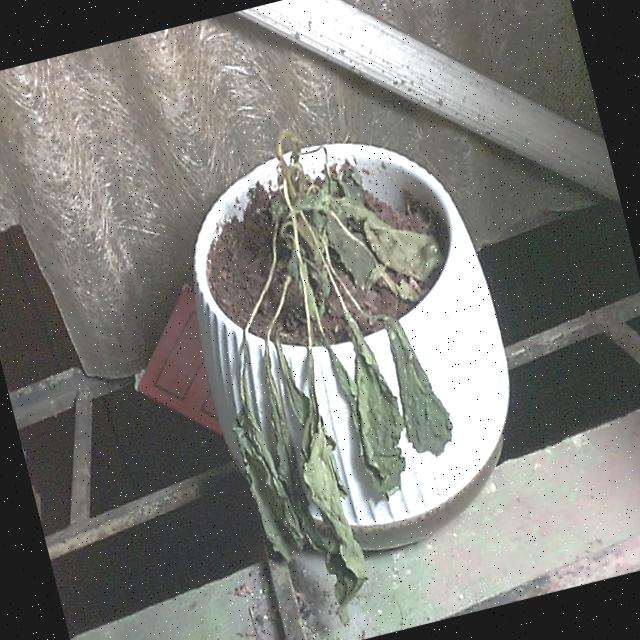Leaf: (276, 360, 374, 602), (224, 388, 309, 564), (340, 328, 422, 492), (383, 310, 458, 457)
